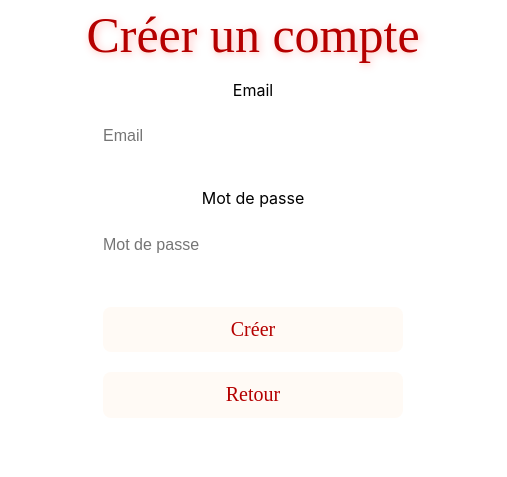
it: RegisterForm component › erreur de création affiche un message d'erreur
The width and height of the screenshot is (507, 477).
Type "existant@example.com" into the field with placeholder "Email" at (253, 136), box x1=84 y1=100 x2=422 y2=172
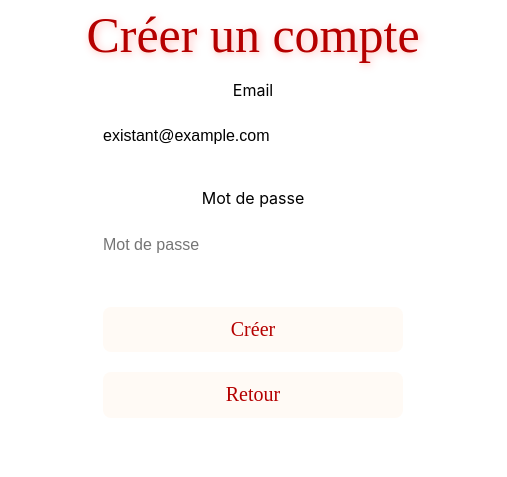
Type "motdepasse123" into the password field with placeholder "Mot de passe" at (253, 245), box x1=84 y1=208 x2=422 y2=281
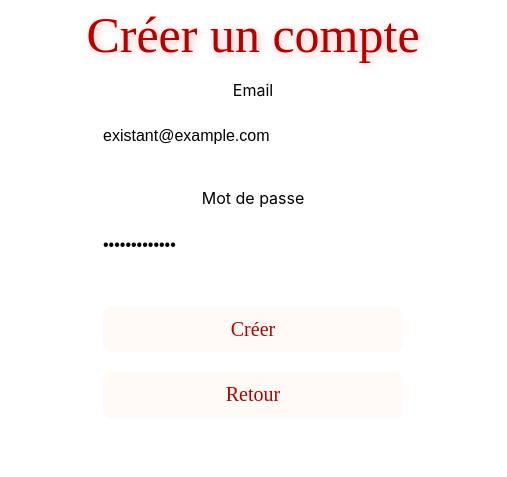
Click the button "Créer" at (253, 330), box x1=103 y1=307 x2=403 y2=352
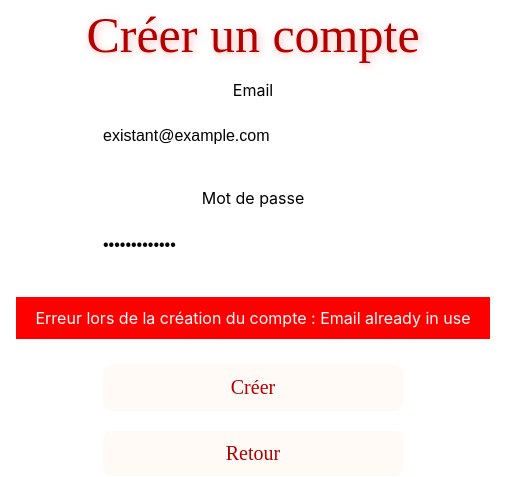
Now the text "Erreur lors de la création du compte : Email already in use" is shown, box x1=16 y1=297 x2=490 y2=339
